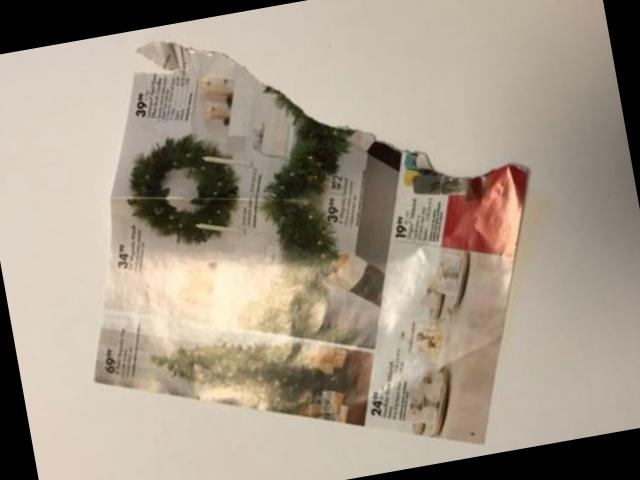cardboard paper: (92, 40, 524, 440)
